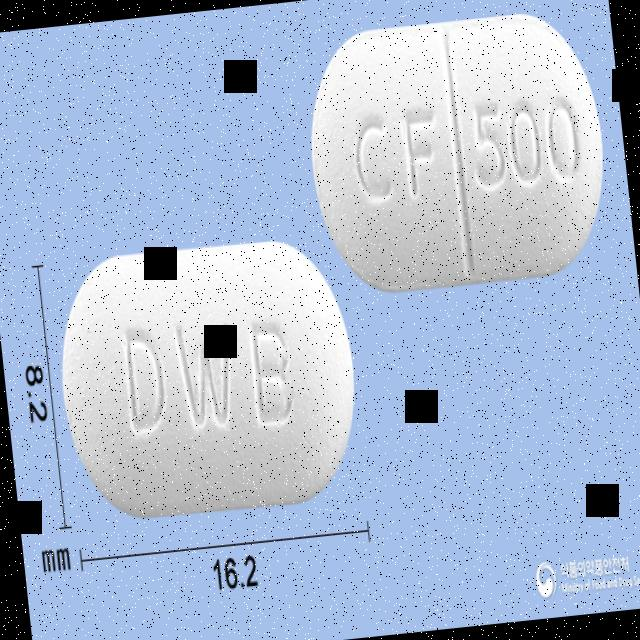Bearcin: (46, 226, 370, 532)
